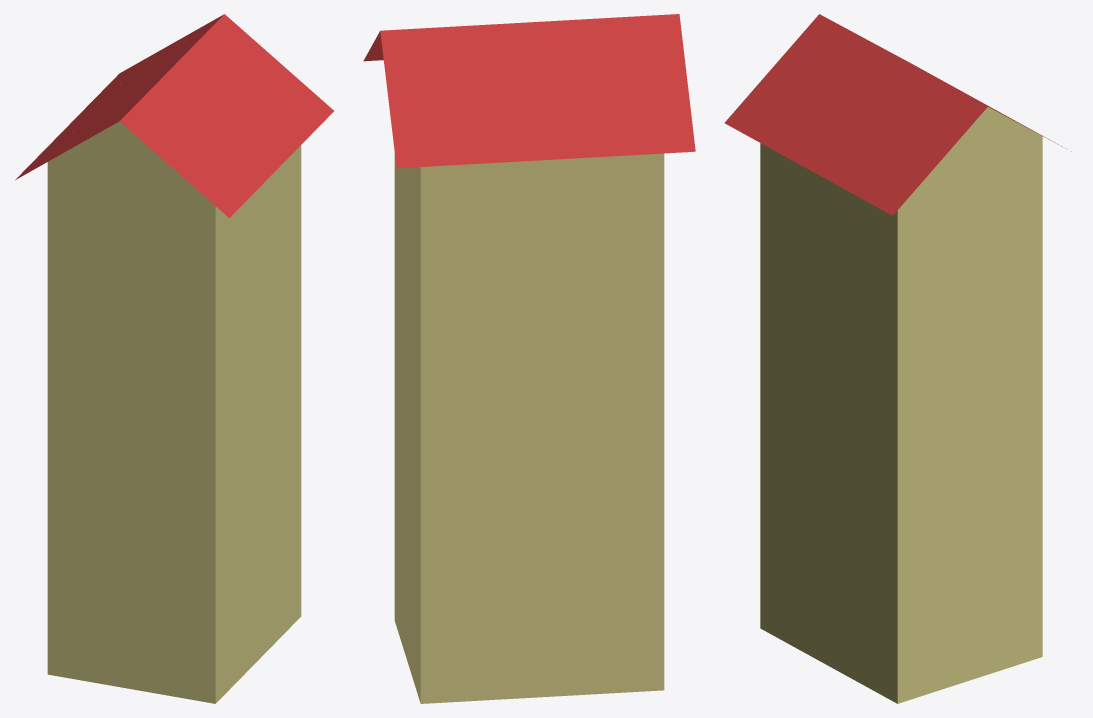
3 renders of one model, left to right at view 1: azimuth 30°, elevation 25°; view 2: azimuth 150°, elevation 25°; view 3: azimuth 270°, elevation 25°, orthographic. The views are drawn at different scales.
Bounding box in the file's own units: 3.52 × 3.45 × 6.25.
